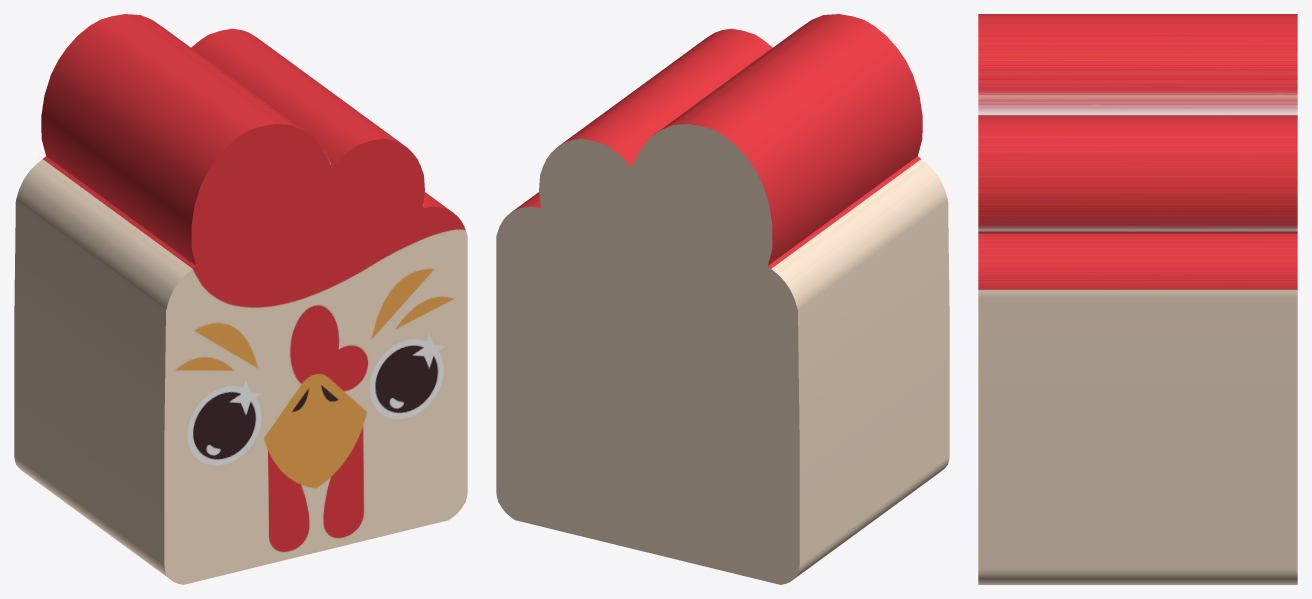
File: Chicken.fbx
3 views of the same model, side by side, from view 1: azimuth 30°, elevation 25°; view 2: azimuth 150°, elevation 25°; view 3: azimuth 270°, elevation 25° (orthographic). The views are drawn at different scales.
Visible parts, largest first — view 1: Chicken; view 2: Chicken; view 3: Chicken.
Boxes of the visible parts, x1,y1,x2,y2 form: Chicken: (14, 14, 467, 584); Chicken: (496, 14, 949, 584); Chicken: (978, 14, 1297, 584).
Size of the model in its own units: 5.37 by 7.44 by 4.61.
1 material, 1 textured.
